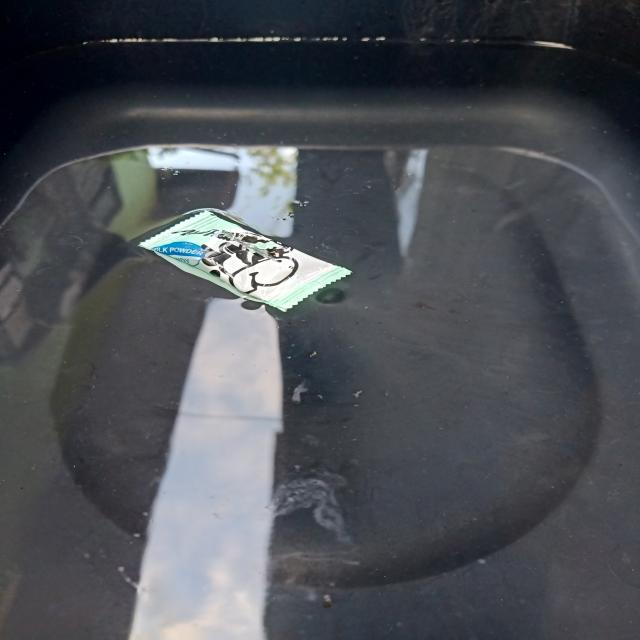Plastic Wrapper: (139, 208, 351, 312)
